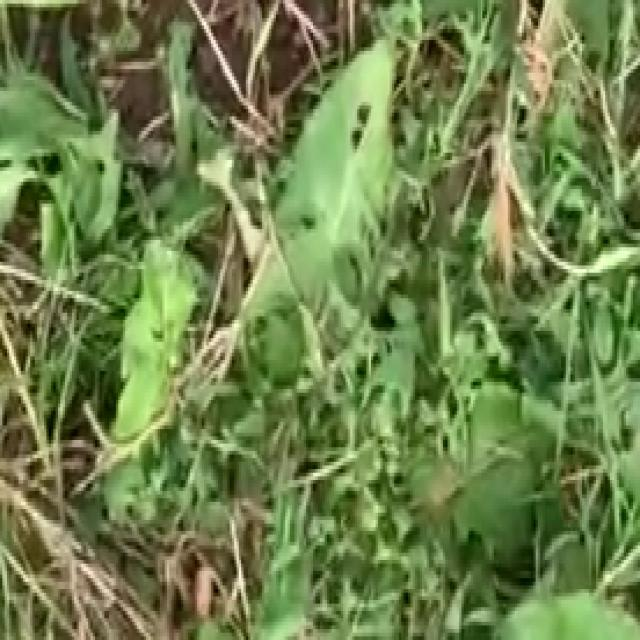organic waste: (197, 0, 531, 382)
